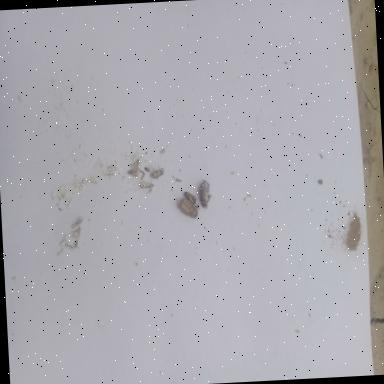pbw: (182, 190, 198, 205), (130, 159, 140, 177), (150, 168, 164, 179), (139, 182, 154, 188)
